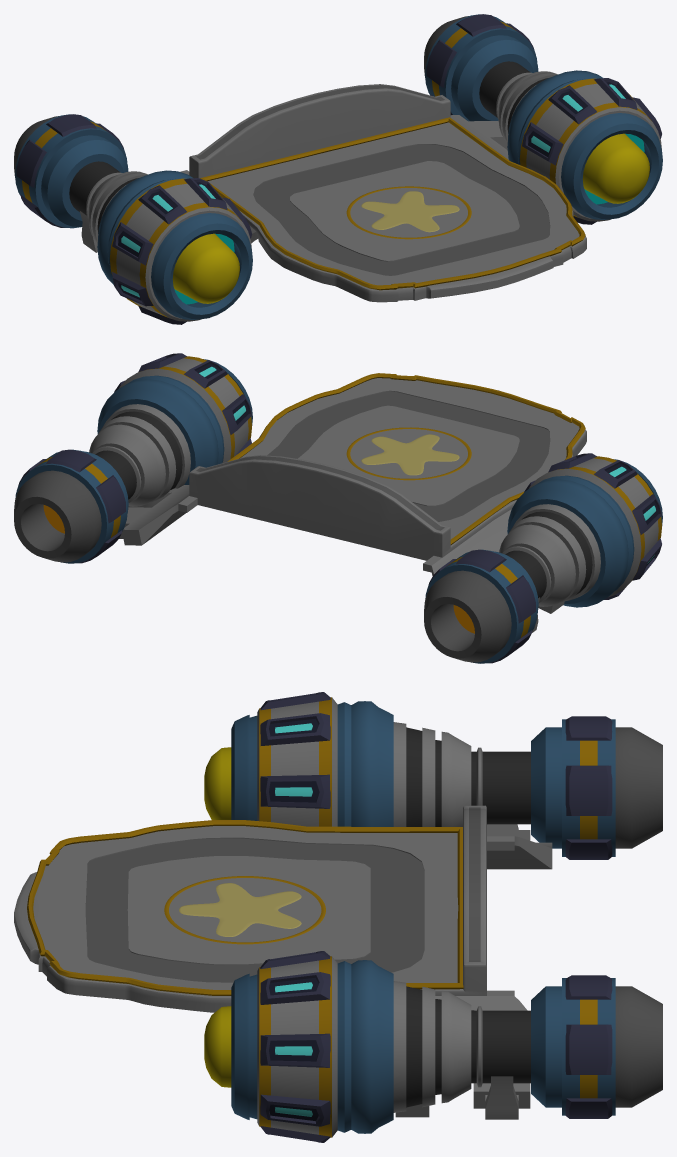
File: PlayerFloor.fbx
3 views of the same model, one above another, from view 1: azimuth 30°, elevation 25°; view 2: azimuth 150°, elevation 25°; view 3: azimuth 270°, elevation 25° (orthographic). The views are drawn at different scales.
Parts seen in each view (by area): view 1: StandEngine_PF; view 2: StandEngine_PF; view 3: StandEngine_PF.
Part boxes in pixels (left/top/right/bottom): StandEngine_PF: left=14, top=14, right=662, bottom=324; StandEngine_PF: left=14, top=353, right=662, bottom=663; StandEngine_PF: left=14, top=692, right=662, bottom=1142.
Size of the model in its own units: 9.88 by 2.3 by 8.03.
